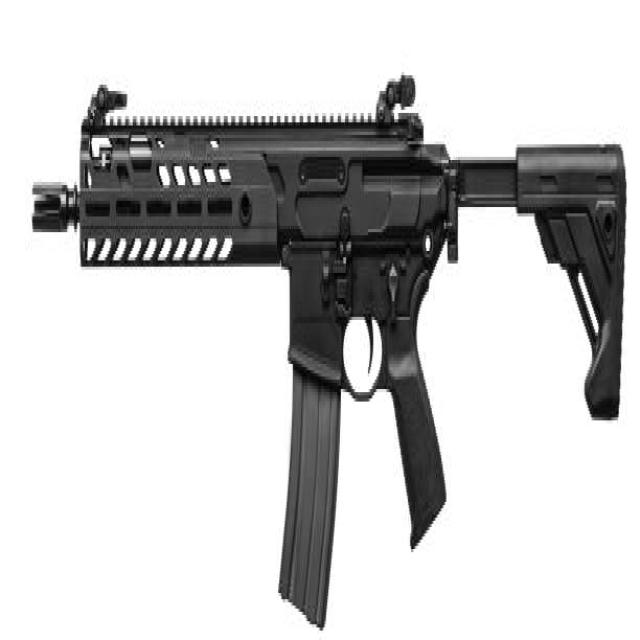rifle: (23, 72, 631, 640)
